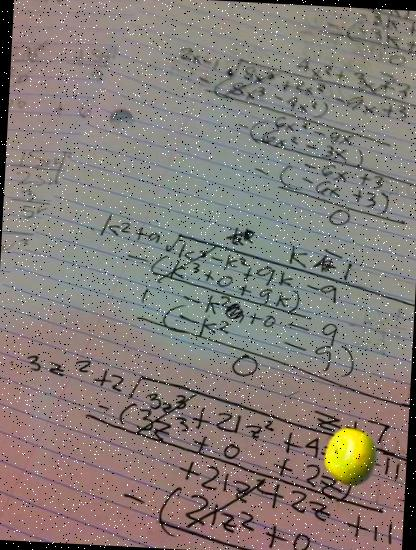Pomelo: (321, 427, 382, 488)
